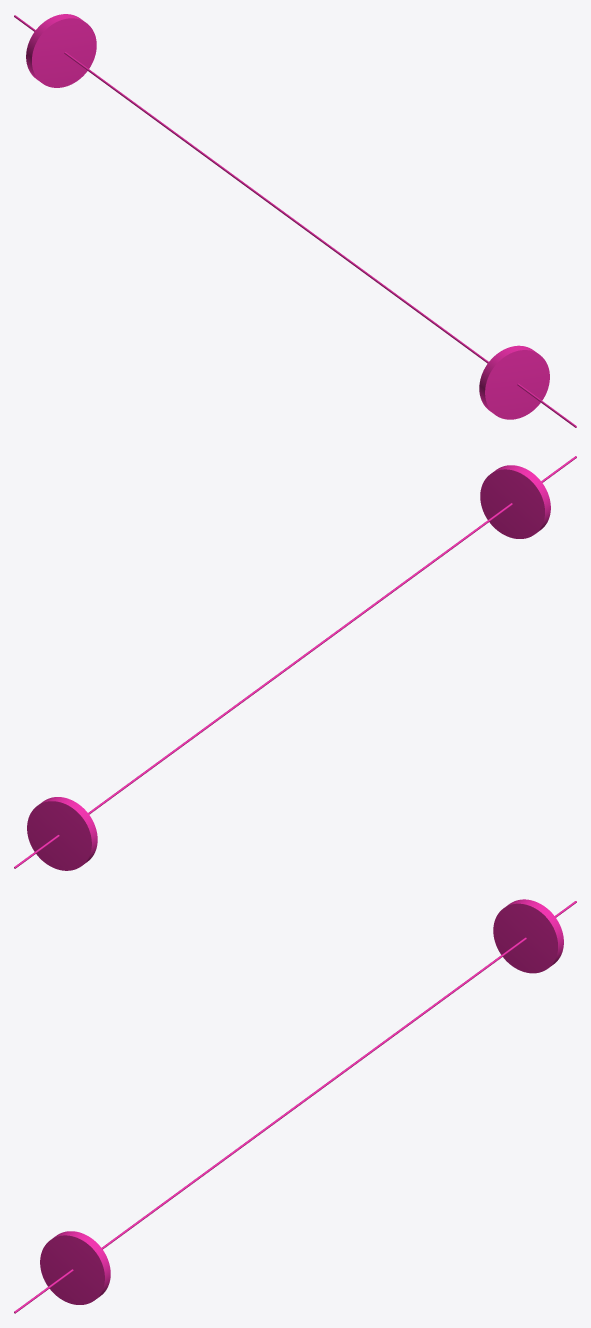
The model's file is longpipe.fbx.
3 renders of one model, top to bottom at view 1: azimuth 30°, elevation 25°; view 2: azimuth 150°, elevation 25°; view 3: azimuth 330°, elevation 25°, orthographic.
Parts seen in each view (by area): view 1: Oil_Tank_4, Oil_Tank_1, Oil_Tank_2; view 2: Oil_Tank_4, Oil_Tank_1, Oil_Tank_2; view 3: Oil_Tank_1, Oil_Tank_4, Oil_Tank_2.
Boxes of the visible parts, left/top/right/bottom form: Oil_Tank_4: left=26, top=14, right=96, bottom=87; Oil_Tank_1: left=479, top=345, right=549, bottom=419; Oil_Tank_2: left=14, top=15, right=576, bottom=427; Oil_Tank_4: left=27, top=797, right=97, bottom=870; Oil_Tank_1: left=480, top=465, right=550, bottom=538; Oil_Tank_2: left=14, top=456, right=576, bottom=868; Oil_Tank_1: left=40, top=1231, right=110, bottom=1304; Oil_Tank_4: left=493, top=899, right=563, bottom=973; Oil_Tank_2: left=14, top=901, right=576, bottom=1313.
Size of the model in its own units: 2000 by 1999 by 30000.
